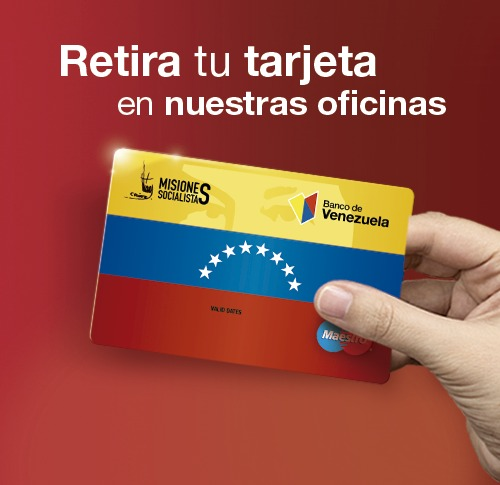tarjeta: (89, 149, 416, 384)
